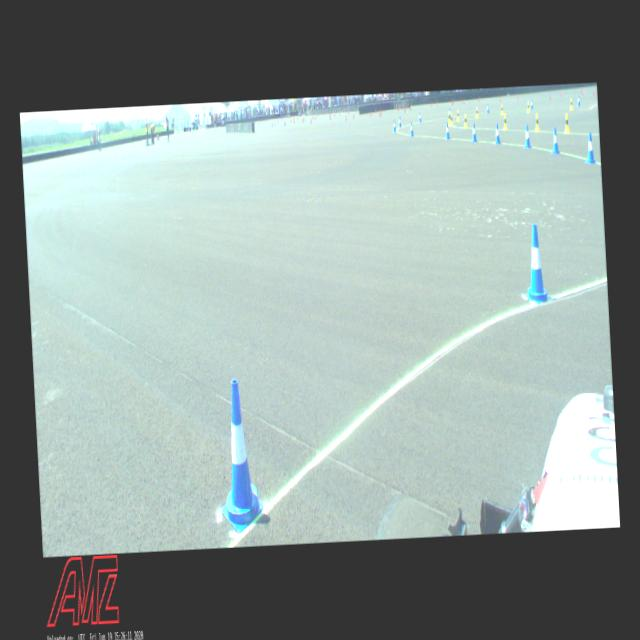blue_cone: (215, 378, 265, 534), (522, 223, 552, 304), (585, 132, 596, 163), (552, 128, 560, 154), (524, 124, 531, 148), (494, 124, 500, 144), (472, 123, 478, 142), (409, 122, 414, 136), (446, 122, 450, 139), (392, 120, 397, 132), (418, 112, 422, 123), (398, 116, 401, 128), (577, 95, 580, 106), (448, 108, 451, 117), (530, 99, 532, 109), (486, 104, 488, 113)
yellow_cone: (564, 114, 570, 134), (534, 114, 540, 132), (503, 114, 508, 130), (463, 114, 468, 128), (526, 102, 530, 113), (570, 98, 573, 110), (501, 104, 504, 115), (456, 110, 459, 121), (450, 113, 452, 126), (448, 112, 450, 124), (476, 107, 478, 118)
